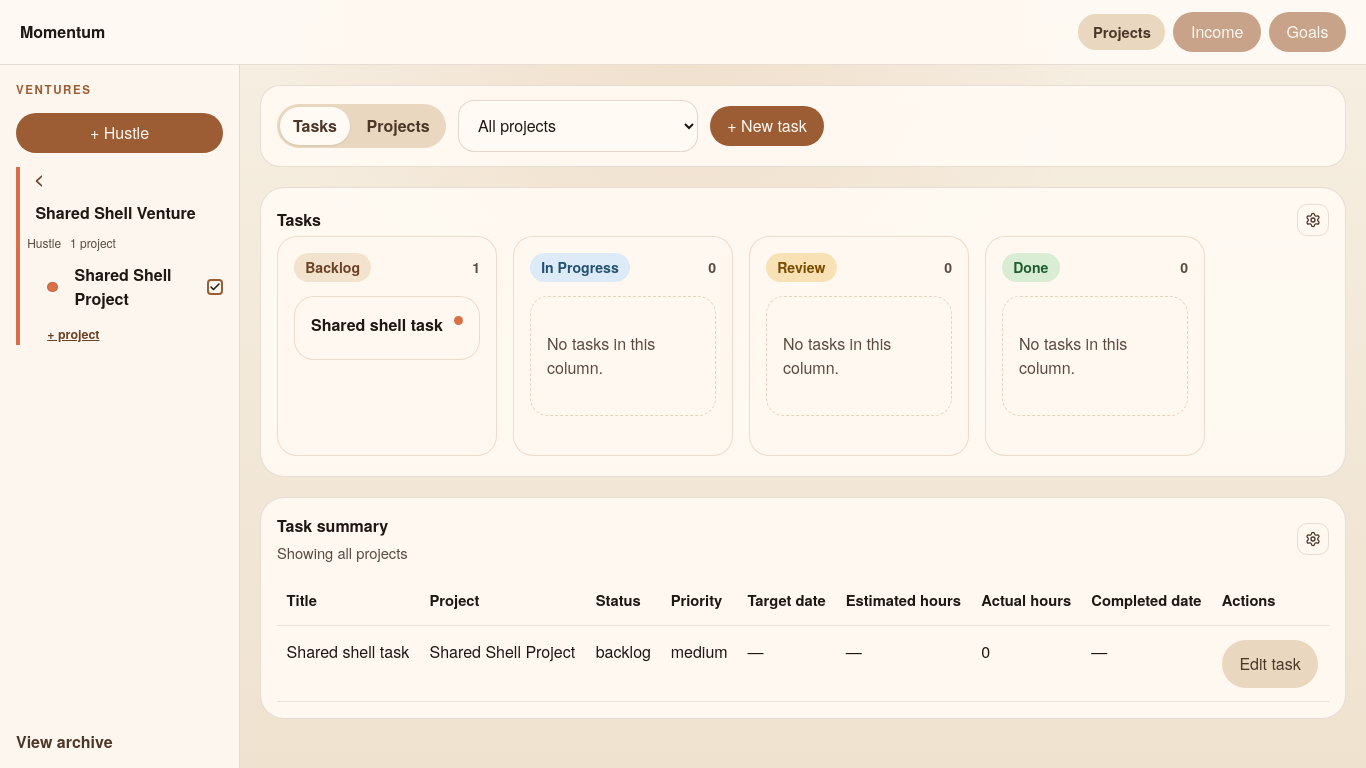
Test: FR-6 shared kanban shell integration coverage › keeps the board-view tablist and labeled task and project columns through both board entry points
Click the tab "Projects": (398, 126) [354, 107, 442, 145]
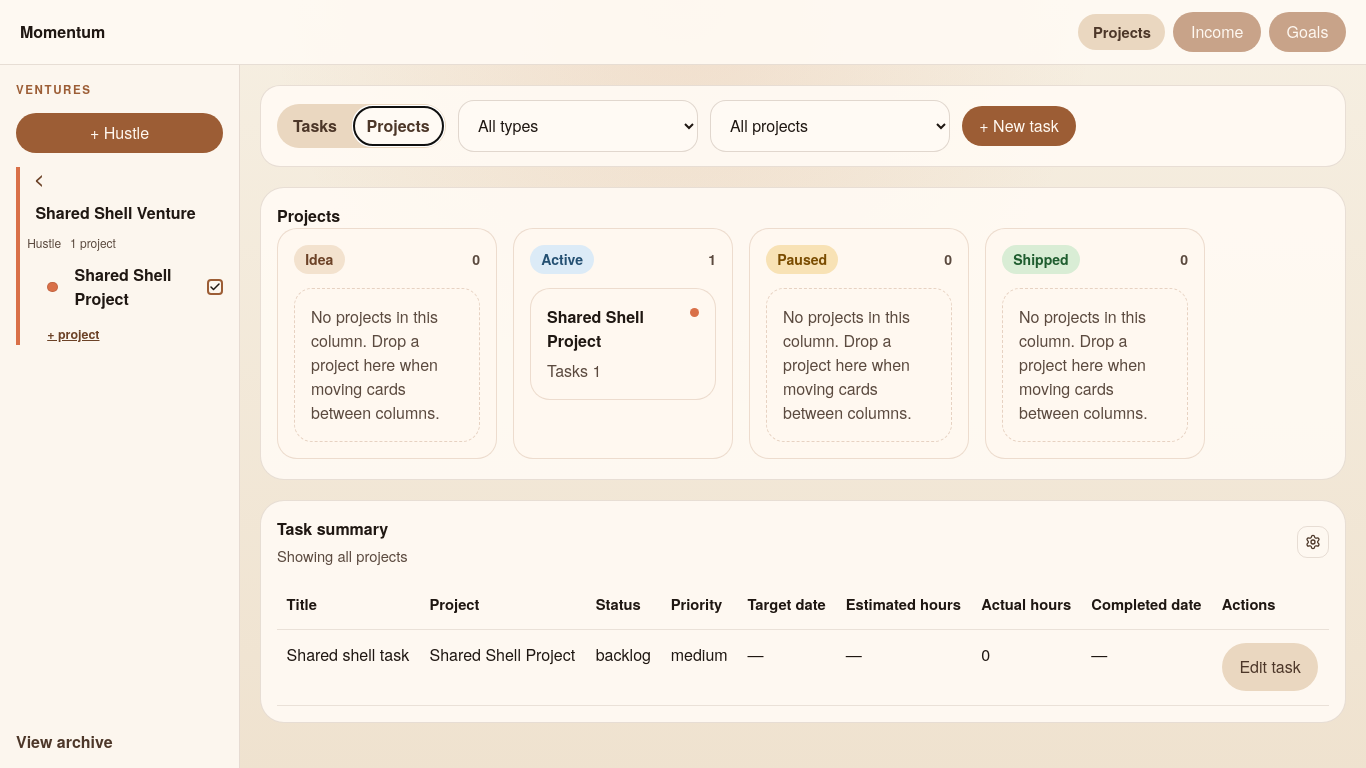
Expected: the button "Shared Shell Project" below "Active" is shown, [547, 305, 685, 353]
